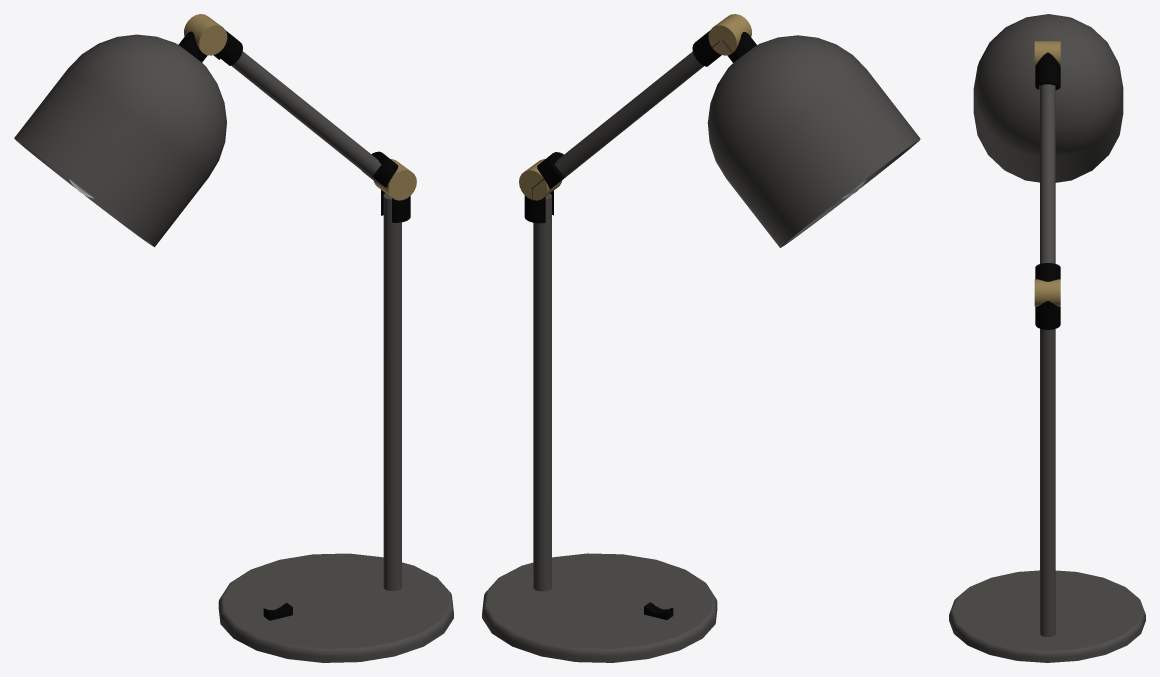
The model's file is OfficeLamp.fbx.
3 views of the same model, side by side, from view 1: azimuth 30°, elevation 25°; view 2: azimuth 150°, elevation 25°; view 3: azimuth 270°, elevation 25° (orthographic). The views are drawn at different scales.
Parts seen in each view (by area): view 1: pCylinder12, pCylinder1, pCylinder2, pCylinder7, polySurface2, pCylinder5; view 2: pCylinder12, pCylinder1, pCylinder2, pCylinder7, polySurface2, pCylinder5; view 3: pCylinder12, pCylinder1, pCylinder2, pCylinder7, polySurface1, pCylinder5, pCylinder4, polySurface2, pCylinder6.
Boxes of the visible parts, x1,y1,x2,y2 form: pCylinder12: (14, 34, 226, 247); pCylinder1: (218, 553, 453, 662); pCylinder2: (383, 193, 401, 590); pCylinder7: (231, 51, 382, 185); polySurface2: (184, 14, 227, 55); pCylinder5: (374, 159, 416, 200); pCylinder12: (707, 35, 920, 247); pCylinder1: (482, 553, 717, 662); pCylinder2: (533, 193, 551, 591); pCylinder7: (554, 51, 703, 182); polySurface2: (708, 14, 751, 55); pCylinder5: (519, 159, 562, 200); pCylinder12: (973, 14, 1123, 182); pCylinder1: (949, 570, 1145, 662); pCylinder2: (1040, 329, 1055, 636); pCylinder7: (1040, 84, 1055, 263); polySurface1: (1035, 52, 1060, 89); pCylinder5: (1034, 279, 1060, 306); pCylinder4: (1035, 301, 1060, 329); polySurface2: (1034, 41, 1060, 68); pCylinder6: (1035, 263, 1060, 281).
Size of the model in its own units: 4.52 by 6.61 by 2.25.
